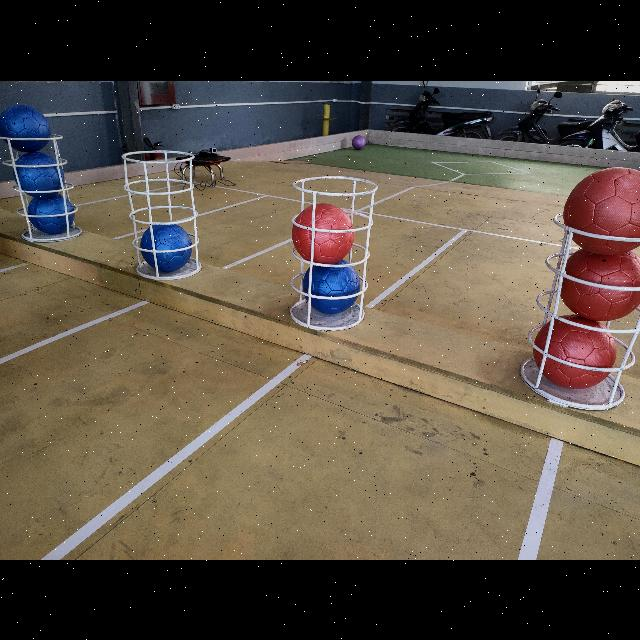B: (304, 260, 362, 310), (142, 218, 190, 272), (0, 101, 52, 150), (15, 152, 65, 194), (34, 192, 74, 232)
R: (566, 164, 640, 252), (533, 316, 615, 388), (560, 247, 640, 317), (294, 202, 354, 264)
